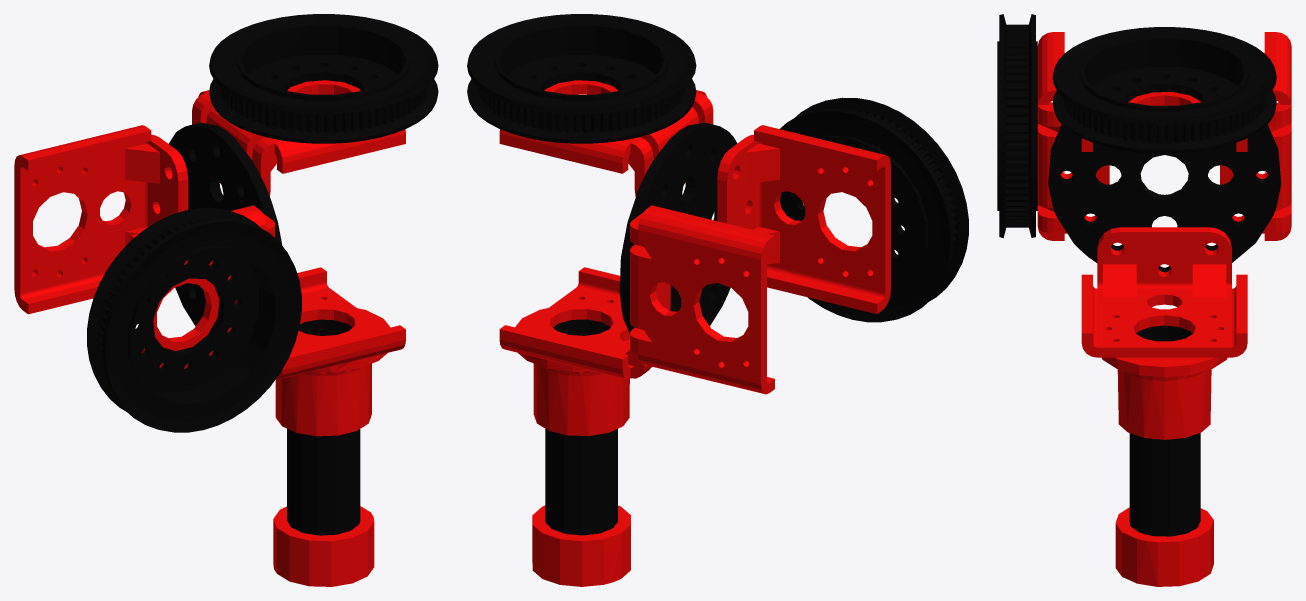
File: inter_joint_junction.dae
3 views of the same model, side by side, from view 1: azimuth 30°, elevation 25°; view 2: azimuth 150°, elevation 25°; view 3: azimuth 270°, elevation 25° (orthographic). The views are drawn at different scales.
Parts seen in each view (by area): view 1: Black_Metal, Red, Black_Nonmetal; view 2: Red, Black_Metal, Black_Nonmetal; view 3: Red, Black_Metal, Black_Nonmetal.
Boxes of the visible parts, x1,y1,x2,y2 form: Black_Metal: (87,14,438,432); Red: (14,80,405,586); Black_Nonmetal: (168,122,360,535); Red: (499,80,890,586); Black_Metal: (467,14,968,322); Black_Nonmetal: (545,122,737,535); Red: (1037,32,1291,586); Black_Metal: (997,14,1276,237); Black_Nonmetal: (1048,124,1280,536).
Bounding box in the file's own units: 0.1014 × 0.0656 × 0.1216.
